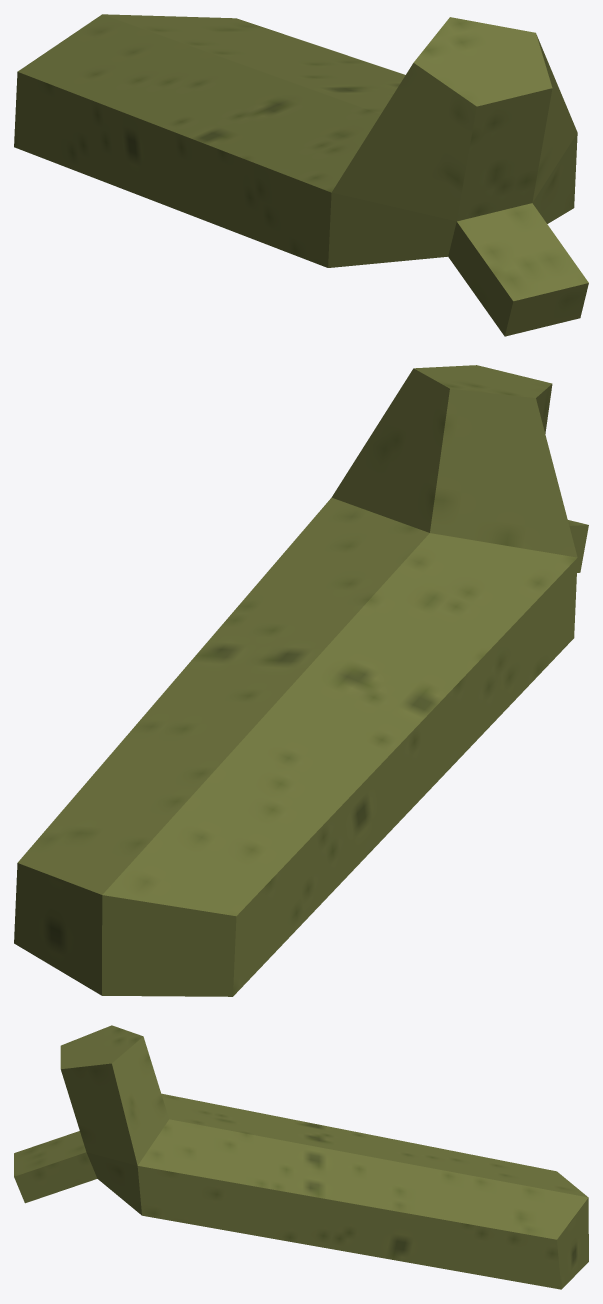
Rendered from ArtilleryBase.fbx.
The picture shows the model from 3 angles, top to bottom: view 1: azimuth 30°, elevation 25°; view 2: azimuth 150°, elevation 25°; view 3: azimuth 270°, elevation 25°; orthographic projection. The views are drawn at different scales.
Parts seen in each view (by area): view 1: Cylinder.004; view 2: Cylinder.004; view 3: Cylinder.004.
Boxes of the visible parts, bbox=[...] form: Cylinder.004: bbox=[14, 14, 588, 336]; Cylinder.004: bbox=[14, 365, 588, 996]; Cylinder.004: bbox=[14, 1025, 588, 1289].
Size of the model in its own units: 20.83 by 28.5 by 65.86.
